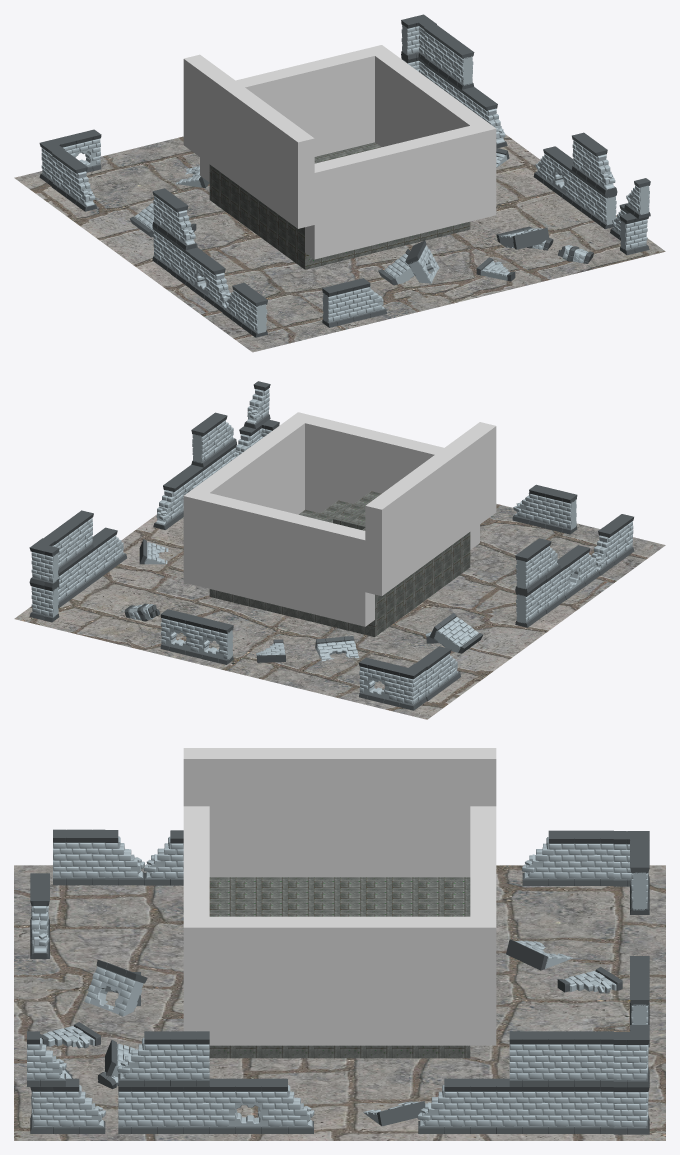
File: Stage.gltf
3 renders of one model, top to bottom at view 1: azimuth 30°, elevation 25°; view 2: azimuth 150°, elevation 25°; view 3: azimuth 270°, elevation 25°, orthographic. The views are drawn at different scales.
Visible parts, largest first — view 1: 仮, 透明壁.005, 透明壁.002, 透明壁.004, 透明壁.001, 壁.014, 壁.006, 壁.013, 壁四隅.001, 壊れた壁.006, 壁四隅, 壁.009 (+22 smaller); view 2: 仮, 透明壁.004, 透明壁.002, 透明壁.005, 透明壁.001, 壁.014, 壊れた壁.013, 壁四隅.003, 壊れた壁.012, 壊れた壁.006, 壁.003, 壁.007 (+21 smaller); view 3: 仮, 透明壁.001, 透明壁.002, 壁.006, 透明壁.004, 透明壁.005, 壁.007, 壁.008, 壁.011, 壁.013, 壁.010, 壊れた壁.017 (+25 smaller).
Part boxes in pixels (x1,y1,x2,y2): 仮: [14, 134, 665, 352]; 透明壁.005: [305, 125, 479, 259]; 透明壁.002: [183, 54, 314, 228]; 透明壁.004: [200, 49, 374, 182]; 透明壁.001: [365, 45, 496, 218]; 壁.014: [322, 280, 362, 327]; 壁.006: [236, 286, 267, 337]; 壁.013: [443, 38, 474, 89]; 壁四隅.001: [401, 14, 436, 60]; 壊れた壁.006: [61, 129, 101, 172]; 壁四隅: [620, 209, 649, 255]; 壁.009: [586, 181, 617, 229]; 仮: [14, 504, 665, 719]; 透明壁.004: [200, 493, 374, 626]; 透明壁.002: [365, 422, 496, 596]; 透明壁.005: [305, 416, 479, 549]; 透明壁.001: [183, 412, 314, 586]; 壁.014: [537, 486, 577, 534]; 壊れた壁.013: [193, 617, 233, 664]; 壁四隅.003: [392, 663, 426, 710]; 壊れた壁.012: [160, 609, 200, 656]; 壊れた壁.006: [359, 657, 398, 705]; 壁.003: [515, 541, 546, 592]; 壁.007: [191, 416, 222, 467]; 仮: [14, 865, 665, 1140]; 透明壁.001: [183, 916, 496, 1045]; 透明壁.002: [183, 748, 496, 877]; 壁.006: [53, 829, 105, 885]; 透明壁.004: [470, 806, 496, 916]; 透明壁.005: [183, 806, 209, 916]; 壁.007: [157, 1031, 209, 1086]; 壁.008: [561, 1031, 613, 1086]; 壁.011: [457, 1078, 509, 1133]; 壁.013: [509, 1031, 561, 1086]; 壁.010: [561, 830, 613, 885]; 壊れた壁.017: [222, 1078, 274, 1133].
Bounding box in the file's own units: 50 × 17.81 × 50.
6 materials, 2 textured.
